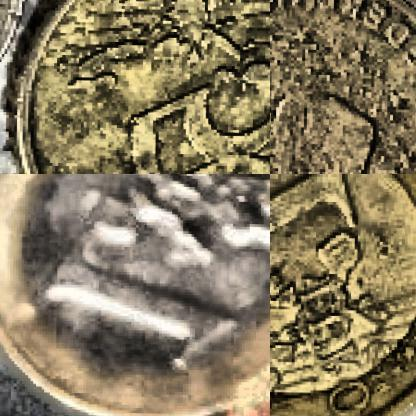coin: (0, 174, 269, 415), (8, 0, 269, 173), (270, 174, 415, 415), (270, 0, 415, 173)
